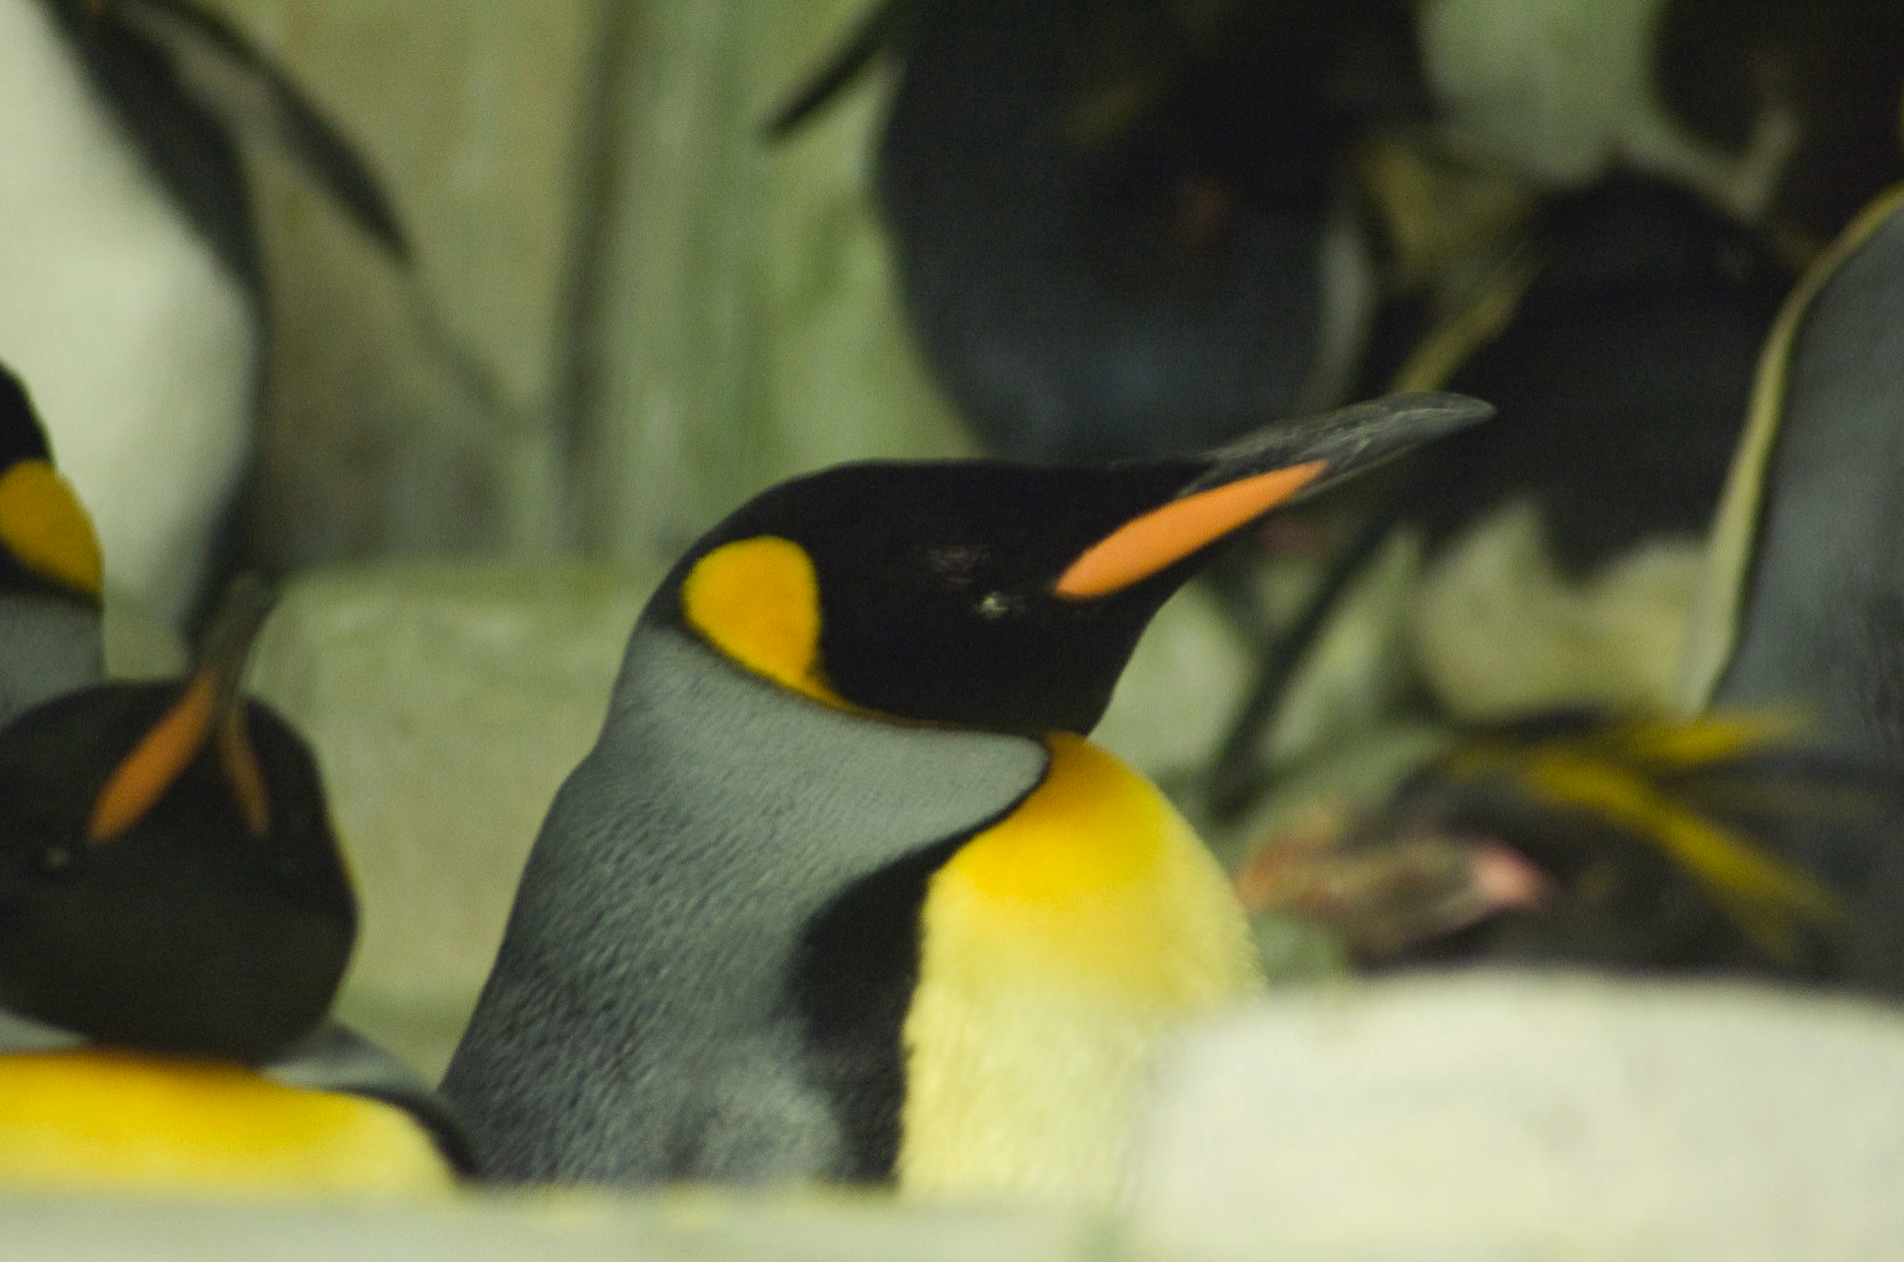penguin: (472, 392, 1512, 1262)
